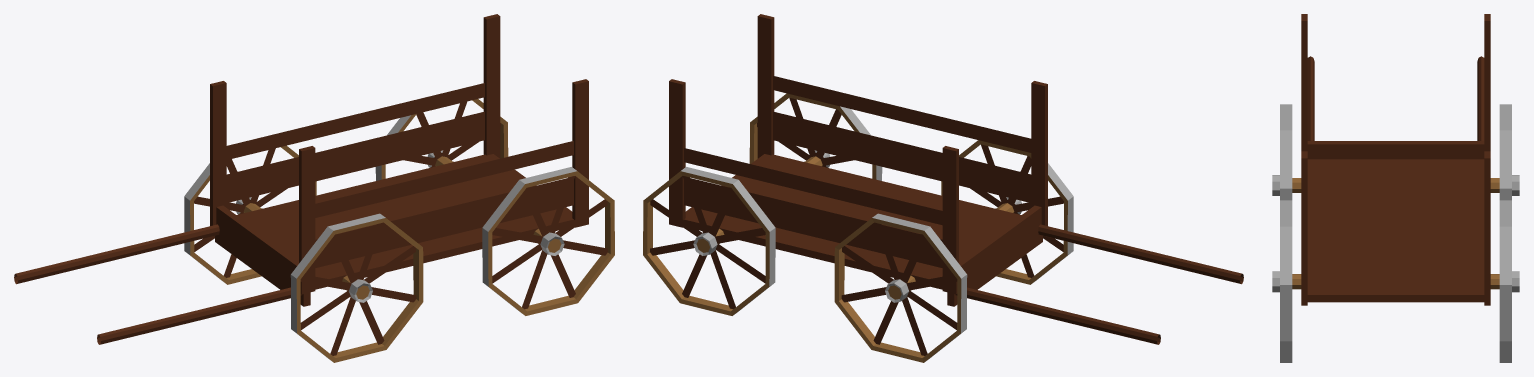
The model's file is CarretaA.fbx.
The picture shows the model from 3 angles, left to right: view 1: azimuth 30°, elevation 25°; view 2: azimuth 150°, elevation 25°; view 3: azimuth 270°, elevation 25°; orthographic projection. The views are drawn at different scales.
Visible parts, largest first — view 1: CarretaB; view 2: CarretaB; view 3: CarretaB.
Boxes of the visible parts, box(x1,y1,x2,y2) form: CarretaB: box(14, 14, 614, 362); CarretaB: box(643, 14, 1243, 362); CarretaB: box(1272, 14, 1519, 362).
Bounding box in the file's own units: 366 × 146 × 152.
